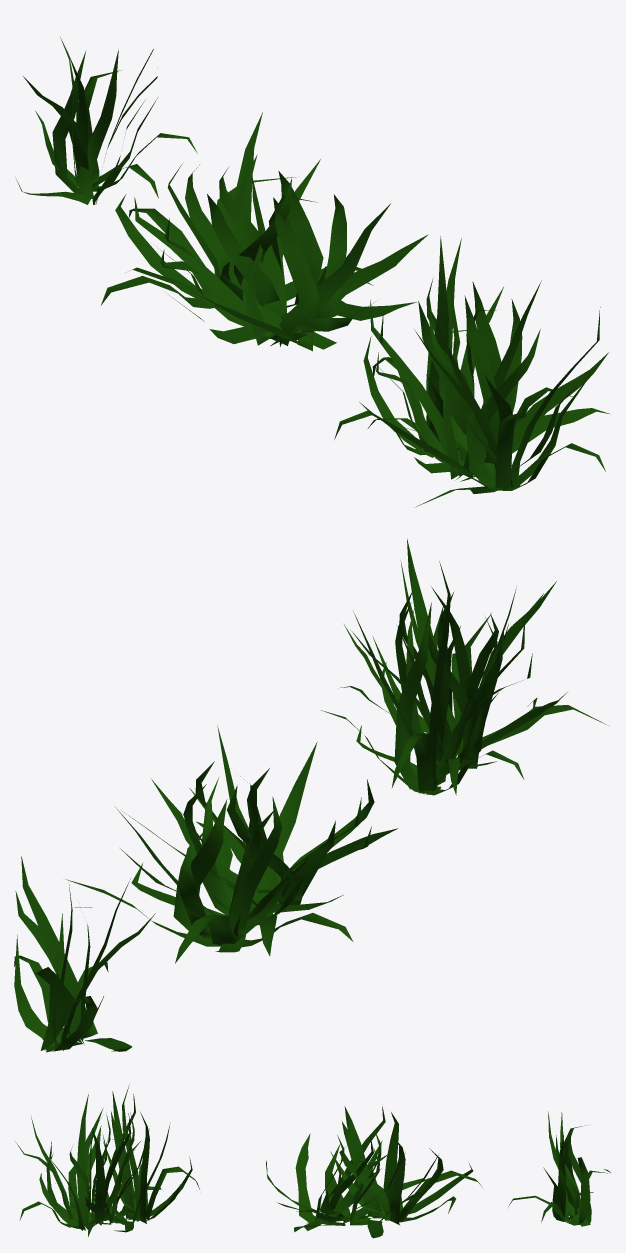
The model's file is grass10.glb.
3 renders of one model, top to bottom at view 1: azimuth 30°, elevation 25°; view 2: azimuth 150°, elevation 25°; view 3: azimuth 270°, elevation 25°, orthographic. The views are drawn at different scales.
Visible parts, largest first — view 1: grass2, grass1, grass3; view 2: grass2, grass1, grass3; view 3: grass2, grass1, grass3.
Boxes of the visible parts, left/top/right/bottom form: grass2: left=101, top=112, right=428, bottom=351; grass1: left=334, top=236, right=610, bottom=507; grass3: left=16, top=37, right=197, bottom=204; grass2: left=66, top=725, right=397, bottom=963; grass1: left=321, top=539, right=608, bottom=795; grass3: left=14, top=856, right=155, bottom=1052; grass2: left=266, top=1106, right=482, bottom=1238; grass1: left=15, top=1085, right=199, bottom=1236; grass3: left=508, top=1111, right=610, bottom=1226.
Bounding box in the file's own units: 2.46 × 1.98 × 7.77.
